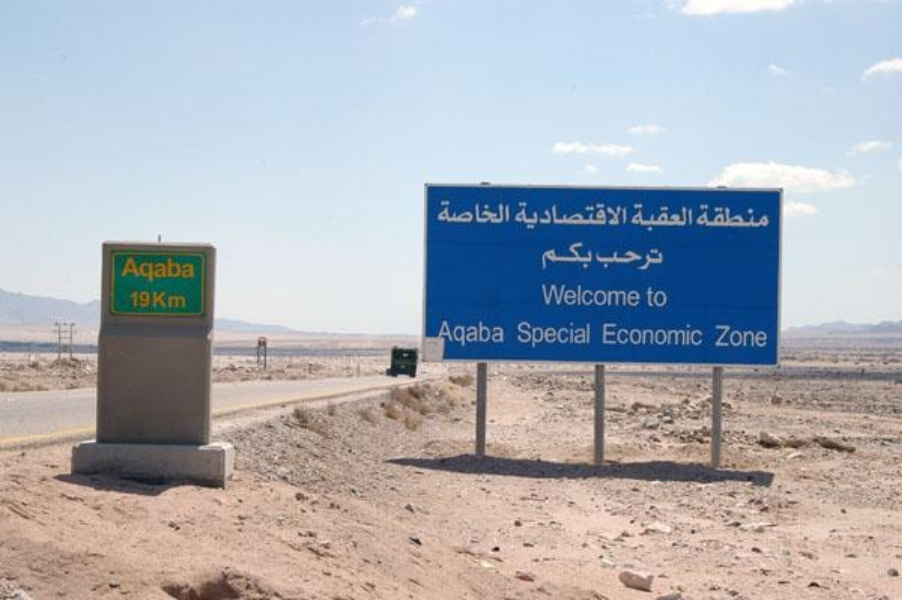text: (641, 202, 656, 234), (657, 202, 672, 234), (673, 202, 688, 234), (545, 240, 560, 271), (561, 240, 576, 271), (577, 240, 592, 271), (545, 280, 560, 309), (561, 280, 576, 309), (577, 280, 592, 309), (593, 280, 608, 309), (609, 280, 624, 309), (625, 280, 640, 309), (449, 319, 464, 348), (465, 319, 480, 348), (481, 319, 496, 348), (529, 321, 544, 349), (545, 321, 560, 349), (561, 321, 576, 349), (513, 201, 528, 229), (529, 201, 544, 229), (545, 201, 560, 229), (561, 201, 576, 229), (577, 201, 592, 229), (593, 201, 608, 229), (609, 201, 624, 229), (129, 256, 144, 283), (145, 256, 160, 283), (161, 256, 176, 283), (177, 256, 192, 283), (449, 199, 464, 226), (465, 199, 480, 226), (481, 199, 496, 226), (497, 199, 512, 226), (577, 321, 591, 349), (609, 321, 624, 346), (625, 321, 640, 346), (641, 321, 656, 346), (657, 321, 672, 346), (673, 321, 688, 346), (689, 321, 704, 346), (705, 204, 720, 229), (721, 204, 736, 229), (737, 204, 752, 229), (753, 204, 768, 229), (593, 247, 608, 271), (609, 247, 624, 271), (625, 247, 640, 271), (641, 247, 656, 271), (753, 324, 769, 346), (516, 321, 528, 349), (721, 324, 736, 346), (737, 324, 752, 346), (436, 199, 448, 226), (630, 202, 640, 234), (161, 289, 176, 309), (657, 285, 669, 309), (645, 285, 656, 309), (130, 291, 144, 309), (441, 319, 448, 348), (497, 319, 504, 348), (600, 321, 608, 346), (177, 289, 187, 309), (657, 247, 665, 271), (121, 256, 128, 283), (697, 204, 704, 229), (152, 289, 160, 309), (689, 202, 694, 234), (713, 324, 720, 346), (540, 280, 544, 309), (145, 291, 151, 309), (542, 240, 544, 271), (625, 201, 627, 229), (593, 240, 594, 271), (641, 280, 642, 309), (193, 256, 194, 283), (705, 321, 706, 346), (769, 204, 770, 229)
